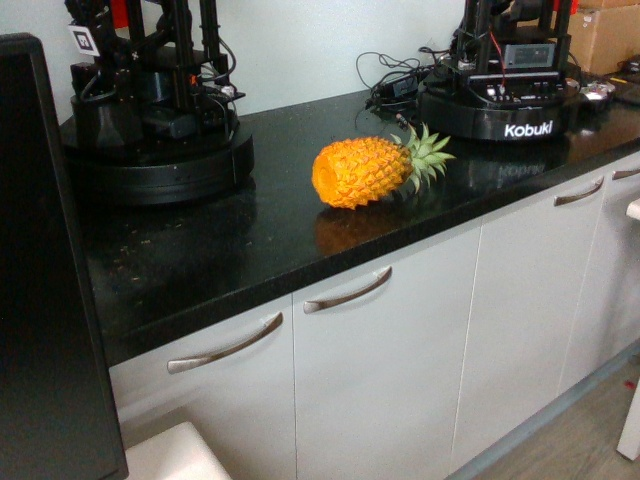pineapple: (304, 131, 456, 216)
